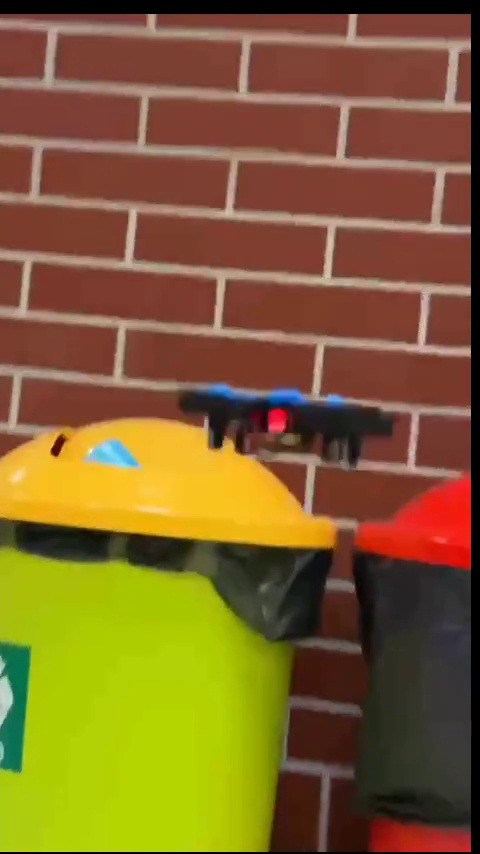drone: (175, 379, 390, 467)
